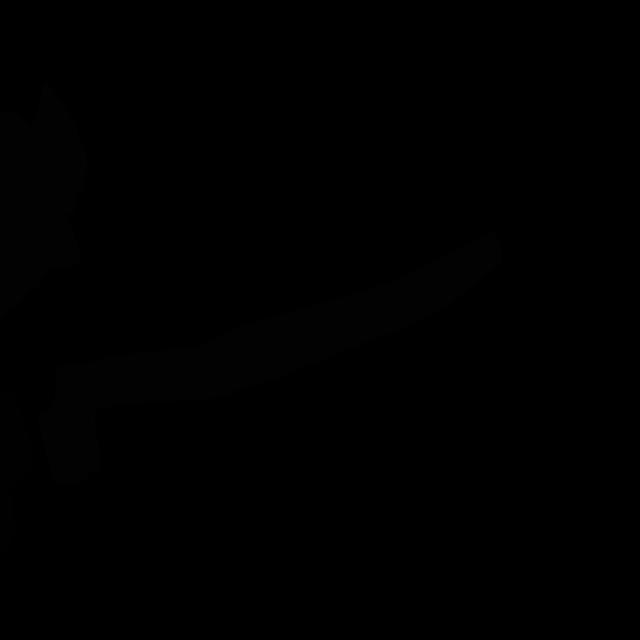cardboard: (38, 231, 502, 486), (0, 82, 87, 317)
rigid_plastic: (0, 387, 34, 558)
